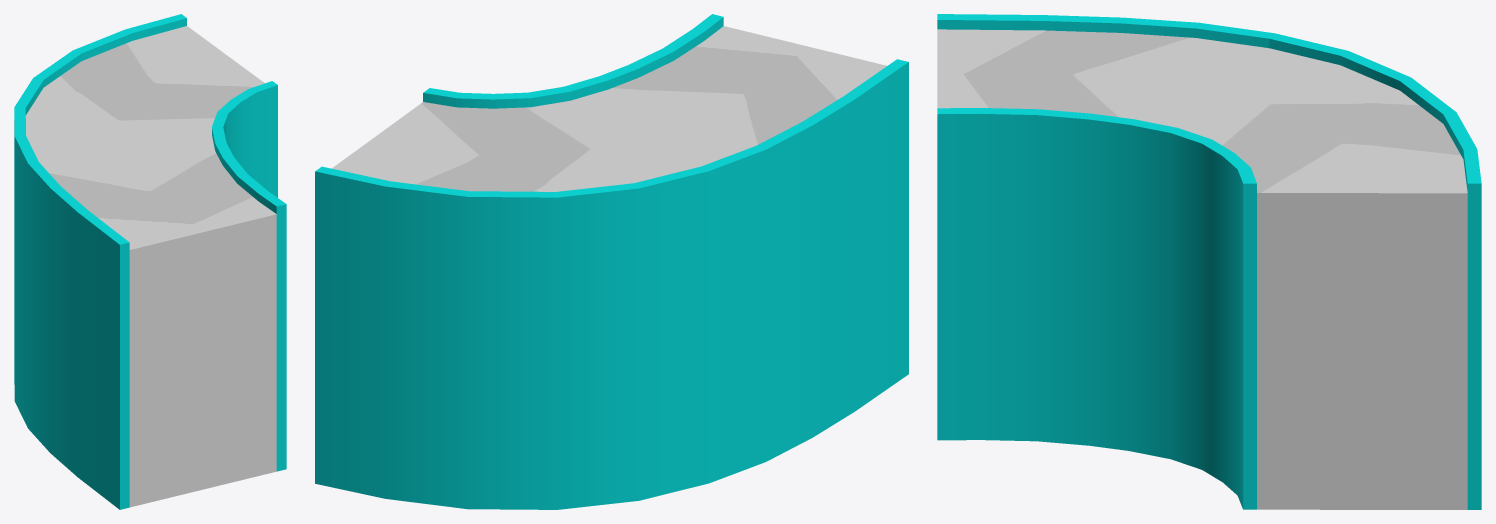
The model's file is SmallLeftRightCurve2.fbx.
The picture shows the model from 3 angles, left to right: view 1: azimuth 30°, elevation 25°; view 2: azimuth 150°, elevation 25°; view 3: azimuth 270°, elevation 25°; orthographic projection. The views are drawn at different scales.
Parts seen in each view (by area): view 1: polySurface14; view 2: polySurface14; view 3: polySurface14.
Boxes of the visible parts, bbox=[...] form: polySurface14: bbox=[14, 14, 286, 509]; polySurface14: bbox=[315, 14, 908, 509]; polySurface14: bbox=[937, 14, 1481, 509].
Bounding box in the file's own units: 57.48 × 51.5 × 77.89.
Materials: 3 (1 with a texture image).
